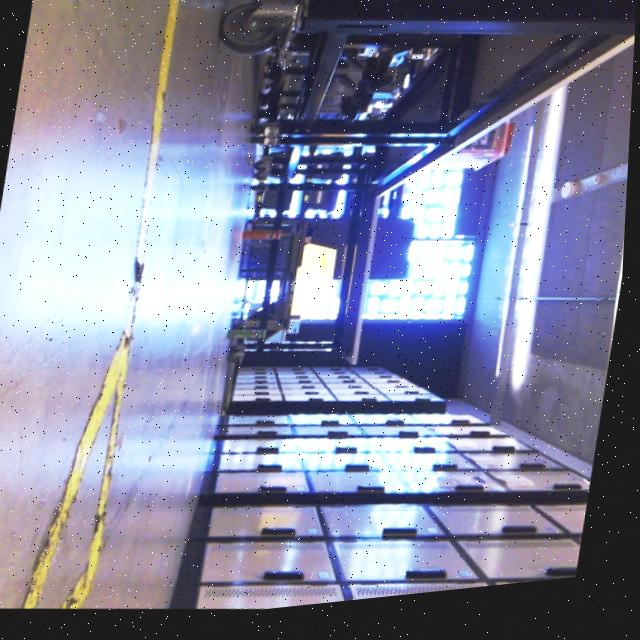greenpringles: (223, 316, 279, 365)
redpringles: (241, 220, 293, 261)
